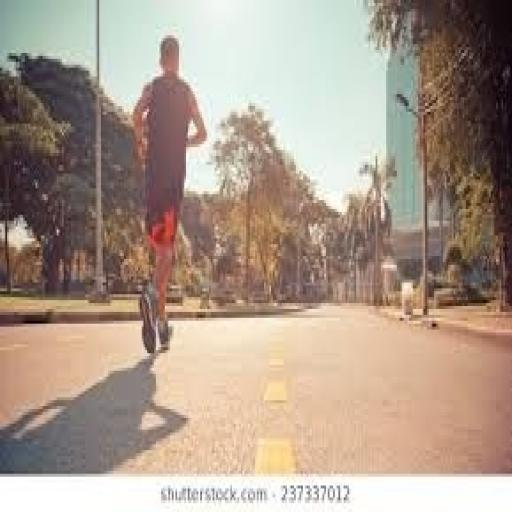running: (129, 32, 209, 356)
